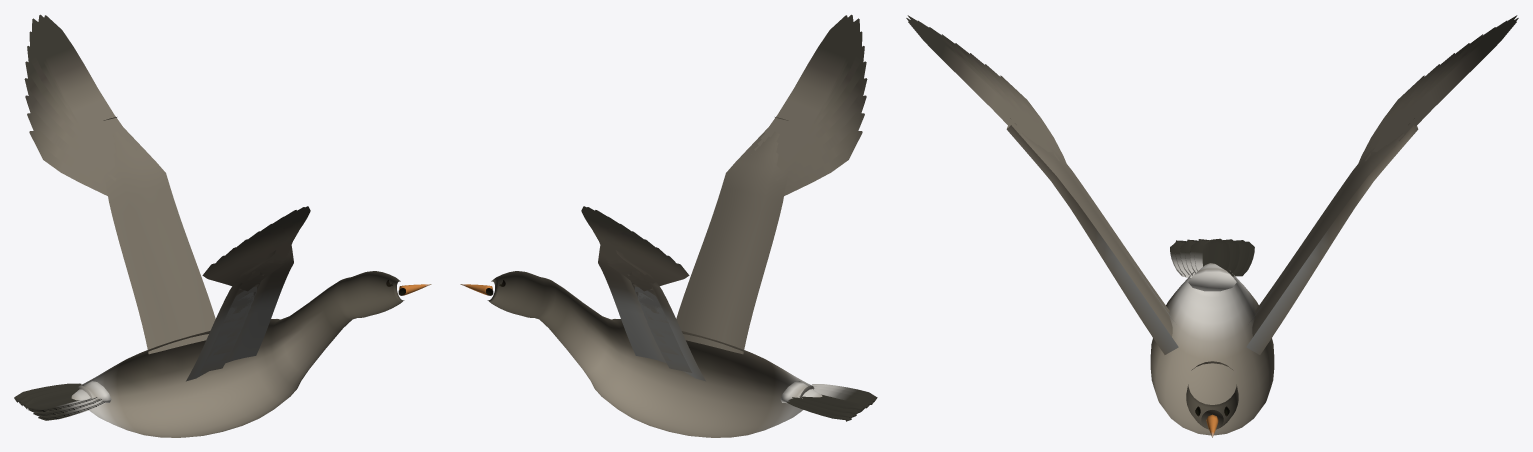
Rendered from SM_Bird_goose_flap0.glb.
The picture shows the model from 3 angles, left to right: view 1: azimuth 30°, elevation 25°; view 2: azimuth 150°, elevation 25°; view 3: azimuth 270°, elevation 25°; orthographic projection. The views are drawn at different scales.
Parts seen in each view (by area): view 1: SM_Bird_goose_flap0; view 2: SM_Bird_goose_flap0; view 3: SM_Bird_goose_flap0.
Part boxes in pixels (x1,y1,x2,y2): SM_Bird_goose_flap0: (14,14,431,437); SM_Bird_goose_flap0: (460,14,877,437); SM_Bird_goose_flap0: (906,15,1518,437).
Size of the model in its own units: 0.876 by 0.6791 by 0.9965.
